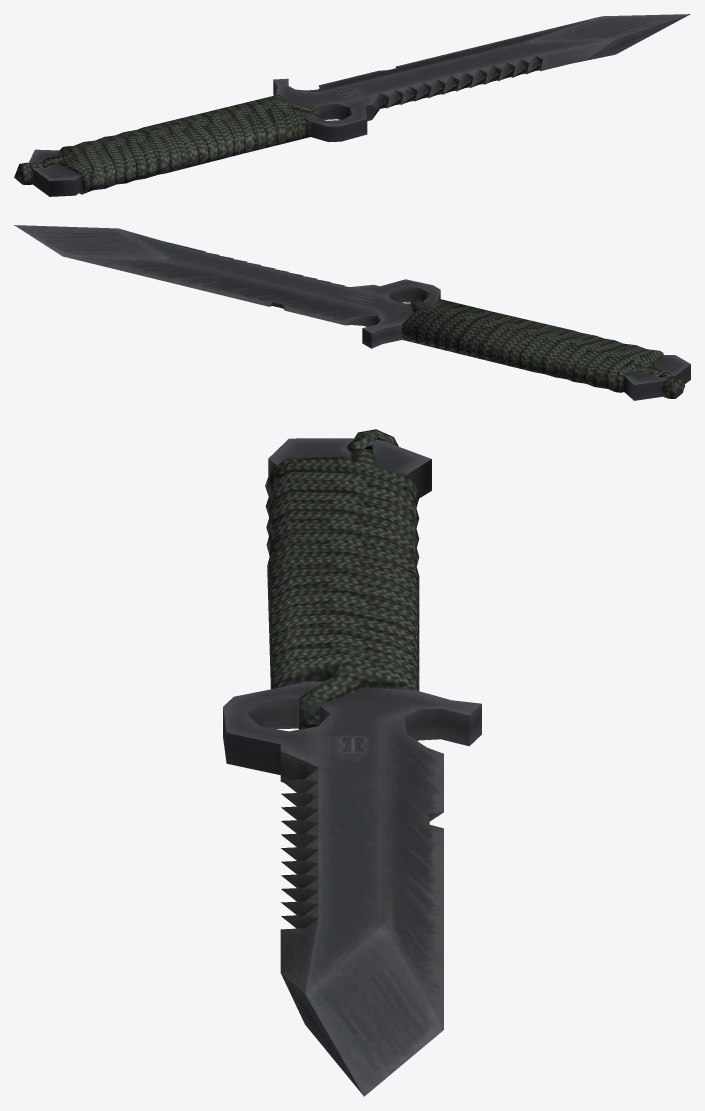
The model's file is t6_wpn_knife_melee_LOD0.obj.
The picture shows the model from 3 angles, top to bottom: view 1: azimuth 30°, elevation 25°; view 2: azimuth 150°, elevation 25°; view 3: azimuth 270°, elevation 25°; orthographic projection. The views are drawn at different scales.
Parts seen in each view (by area): view 1: mtl_t6_wpn_knife_base, mtl_t6_wpn_knife_base_camo2; view 2: mtl_t6_wpn_knife_base, mtl_t6_wpn_knife_base_camo2; view 3: mtl_t6_wpn_knife_base, mtl_t6_wpn_knife_base_camo2.
Part boxes in pixels (<box>): mtl_t6_wpn_knife_base: <box>28,14,690,196</box>; mtl_t6_wpn_knife_base_camo2: <box>14,94,320,194</box>; mtl_t6_wpn_knife_base: <box>14,225,690,400</box>; mtl_t6_wpn_knife_base_camo2: <box>401,297,685,398</box>; mtl_t6_wpn_knife_base: <box>223,438,481,1096</box>; mtl_t6_wpn_knife_base_camo2: <box>265,429,419,729</box>.
Bounding box in the file's own units: 40.97 × 1.96 × 6.85.
